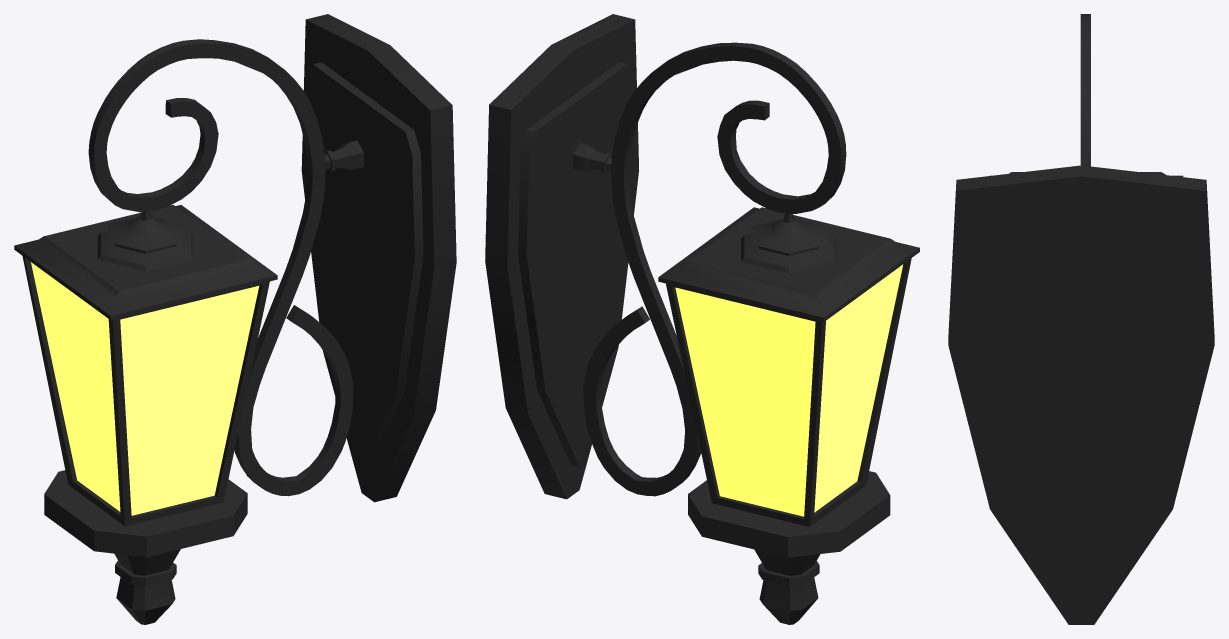
The model's file is WallPost.glb.
The picture shows the model from 3 angles, left to right: view 1: azimuth 30°, elevation 25°; view 2: azimuth 150°, elevation 25°; view 3: azimuth 270°, elevation 25°; orthographic projection.
Parts seen in each view (by area): view 1: lamppost_wall_1; view 2: lamppost_wall_1; view 3: lamppost_wall_1.
Part boxes in pixels (x1=…): lamppost_wall_1: x1=14, y1=14, x2=456, y2=624; lamppost_wall_1: x1=485, y1=14, x2=919, y2=624; lamppost_wall_1: x1=948, y1=14, x2=1214, y2=624.
Size of the model in its own units: 0.3054 by 0.5103 by 0.2155.
